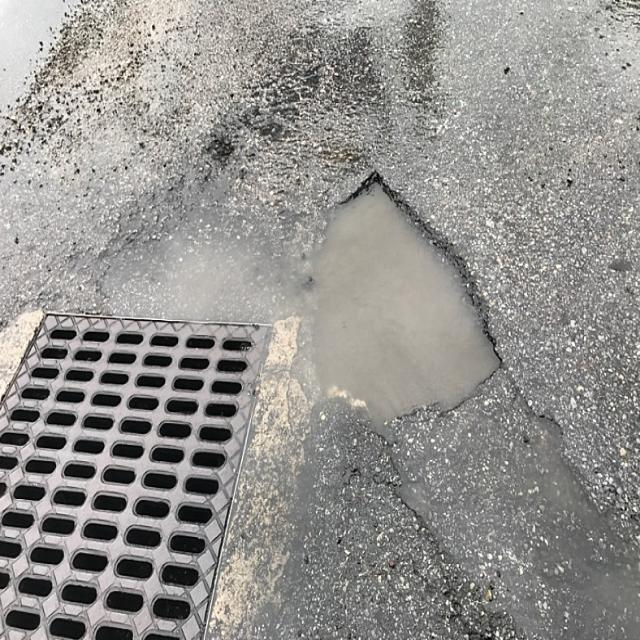puddle: (291, 179, 505, 426), (550, 453, 640, 640), (136, 225, 291, 328), (1, 1, 80, 106)
